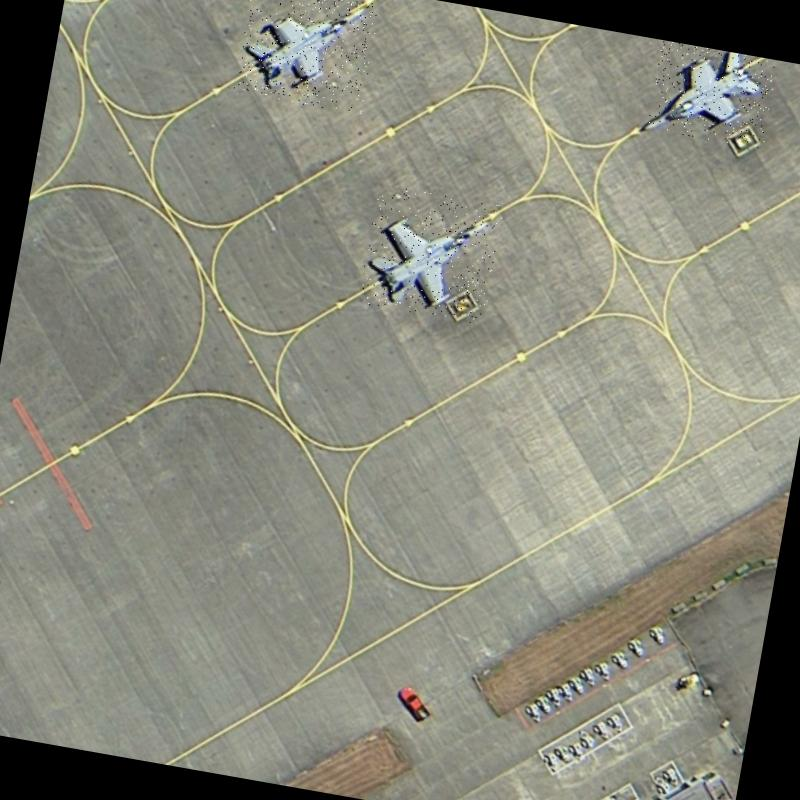A16: (357, 184, 504, 325), (233, 0, 381, 115), (647, 40, 779, 149)
